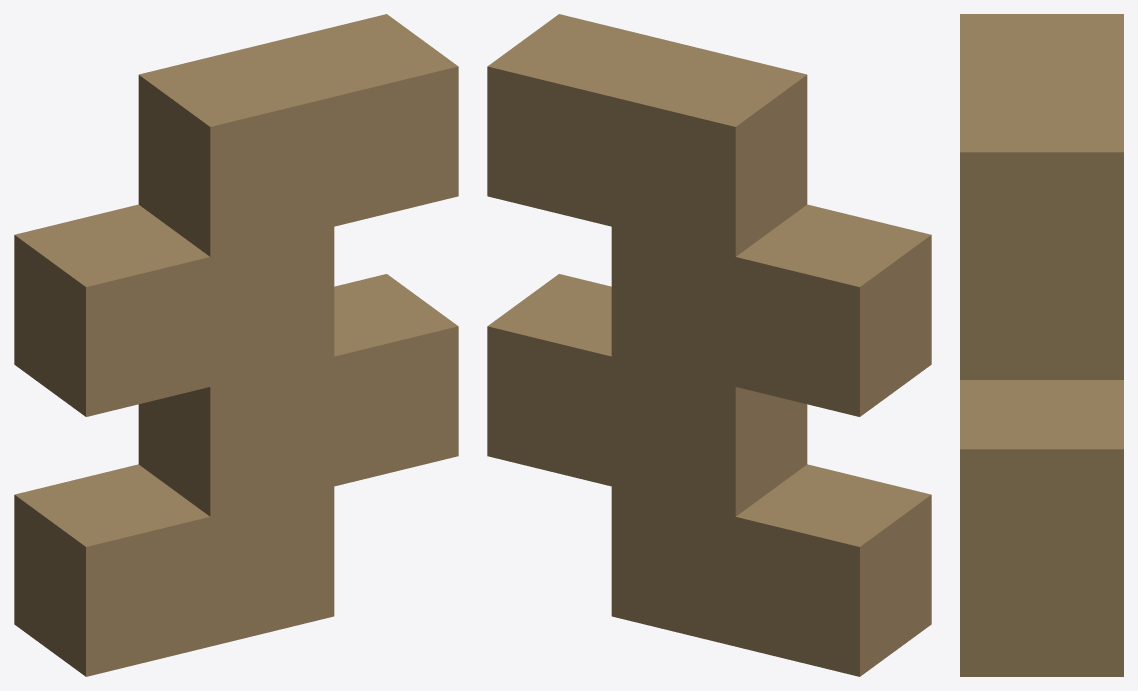
The model's file is Wall_Block.fbx.
3 renders of one model, left to right at view 1: azimuth 30°, elevation 25°; view 2: azimuth 150°, elevation 25°; view 3: azimuth 270°, elevation 25°, orthographic. The views are drawn at different scales.
Visible parts, largest first — view 1: Wall_Block; view 2: Wall_Block; view 3: Wall_Block.
Part boxes in pixels (<box>): Wall_Block: <box>14,14,458,676</box>; Wall_Block: <box>487,14,931,676</box>; Wall_Block: <box>960,14,1123,676</box>.
Bounding box in the file's own units: 1.5 × 2 × 0.5.
